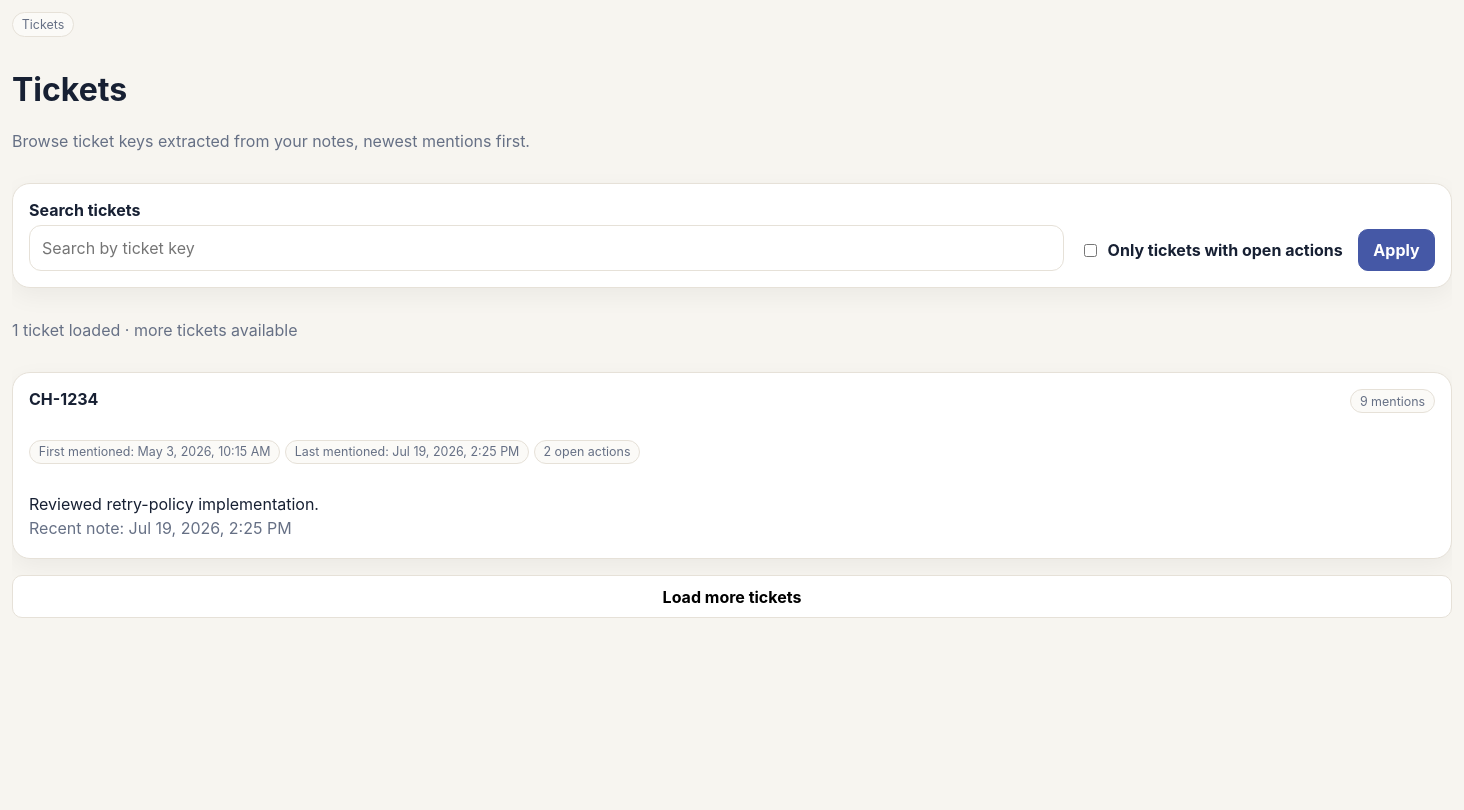
TicketsPage › paginates with opaque cursor, appends in order, deduplicates, and blocks duplicate clicks
Check: the text "CH-1234" is shown, box [29,389,98,409]
Double-click the button "Load more tickets" at [732, 597], box [12,575,1452,618]
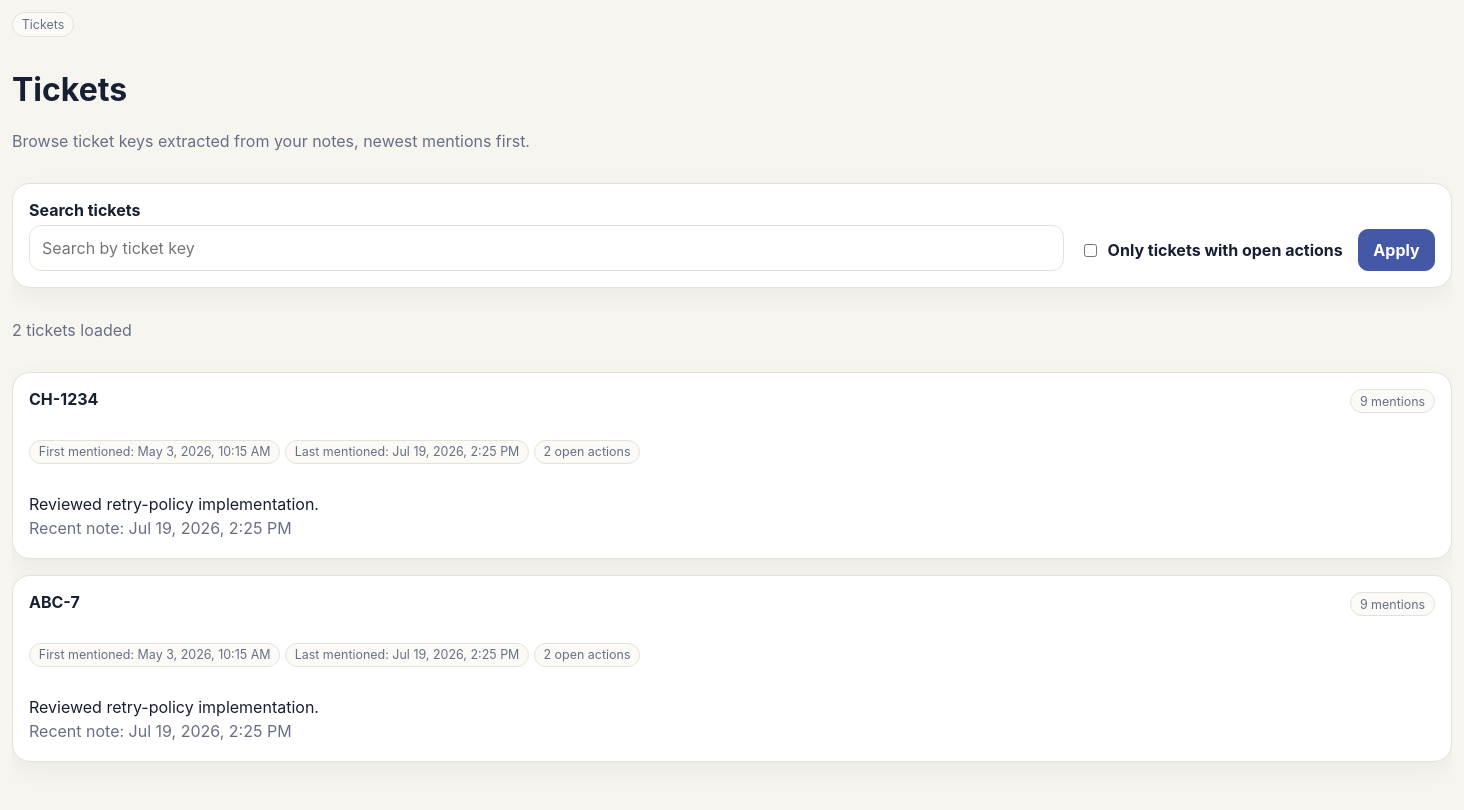
Check: the text "CH-1234" is shown once, box [29,389,98,409]
Check: the text "ABC-7" is shown, box [29,592,80,612]
